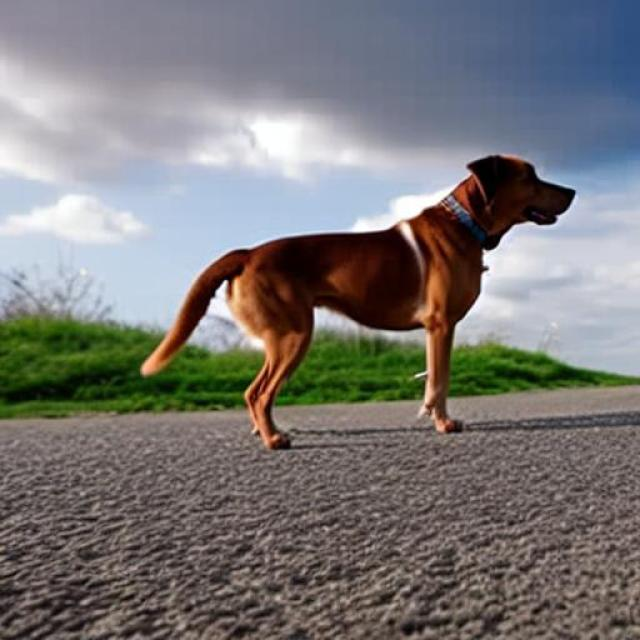Dog: (142, 155, 576, 451)
